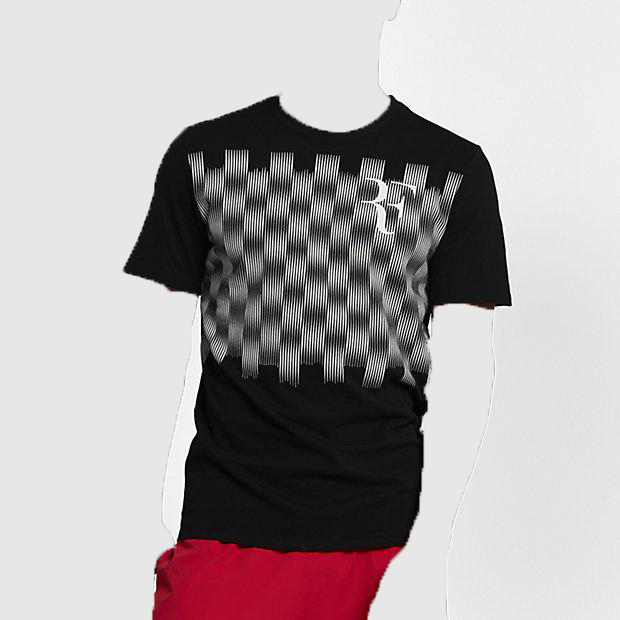teeshirt: (121, 85, 510, 553)
